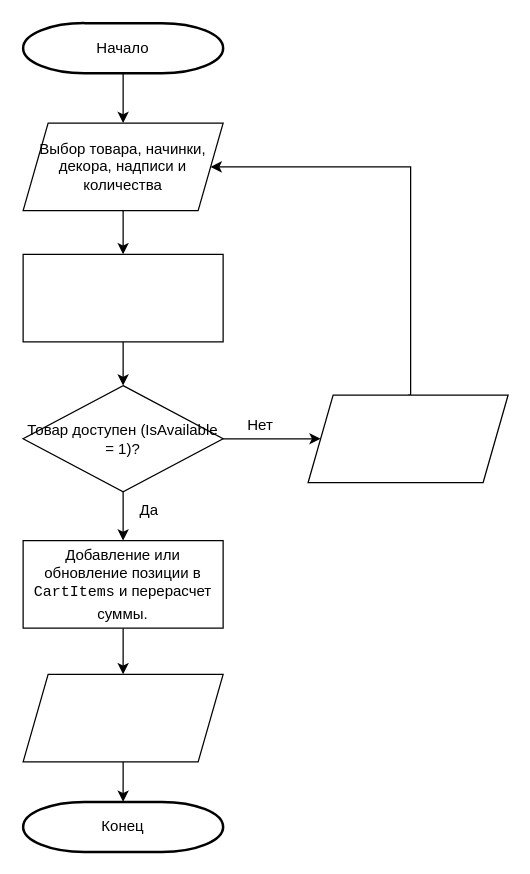
Image size: 530x874. Some labels were removed from this diagram. The centre of each missing label's shape, as x and y in pixels:
"Проверка статуса доступности товара в таблице Products" goes at [122,297].
"Сообщение «Товар временно недоступен»" goes at [407,438].
"Сообщение о добавлении товара в корзину" goes at [122,717].
